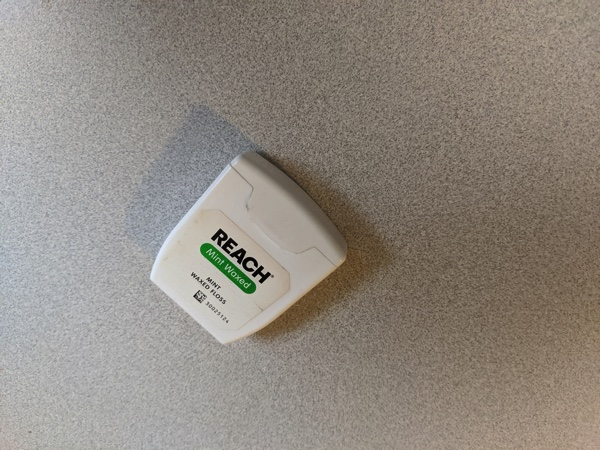plastic: (123, 127, 368, 365)
